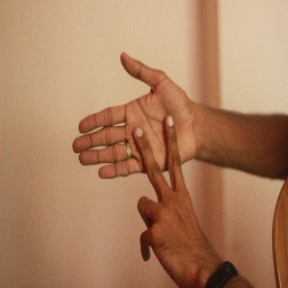N: (72, 50, 213, 239)
